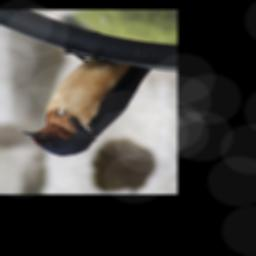Swallow: (21, 44, 154, 158)
